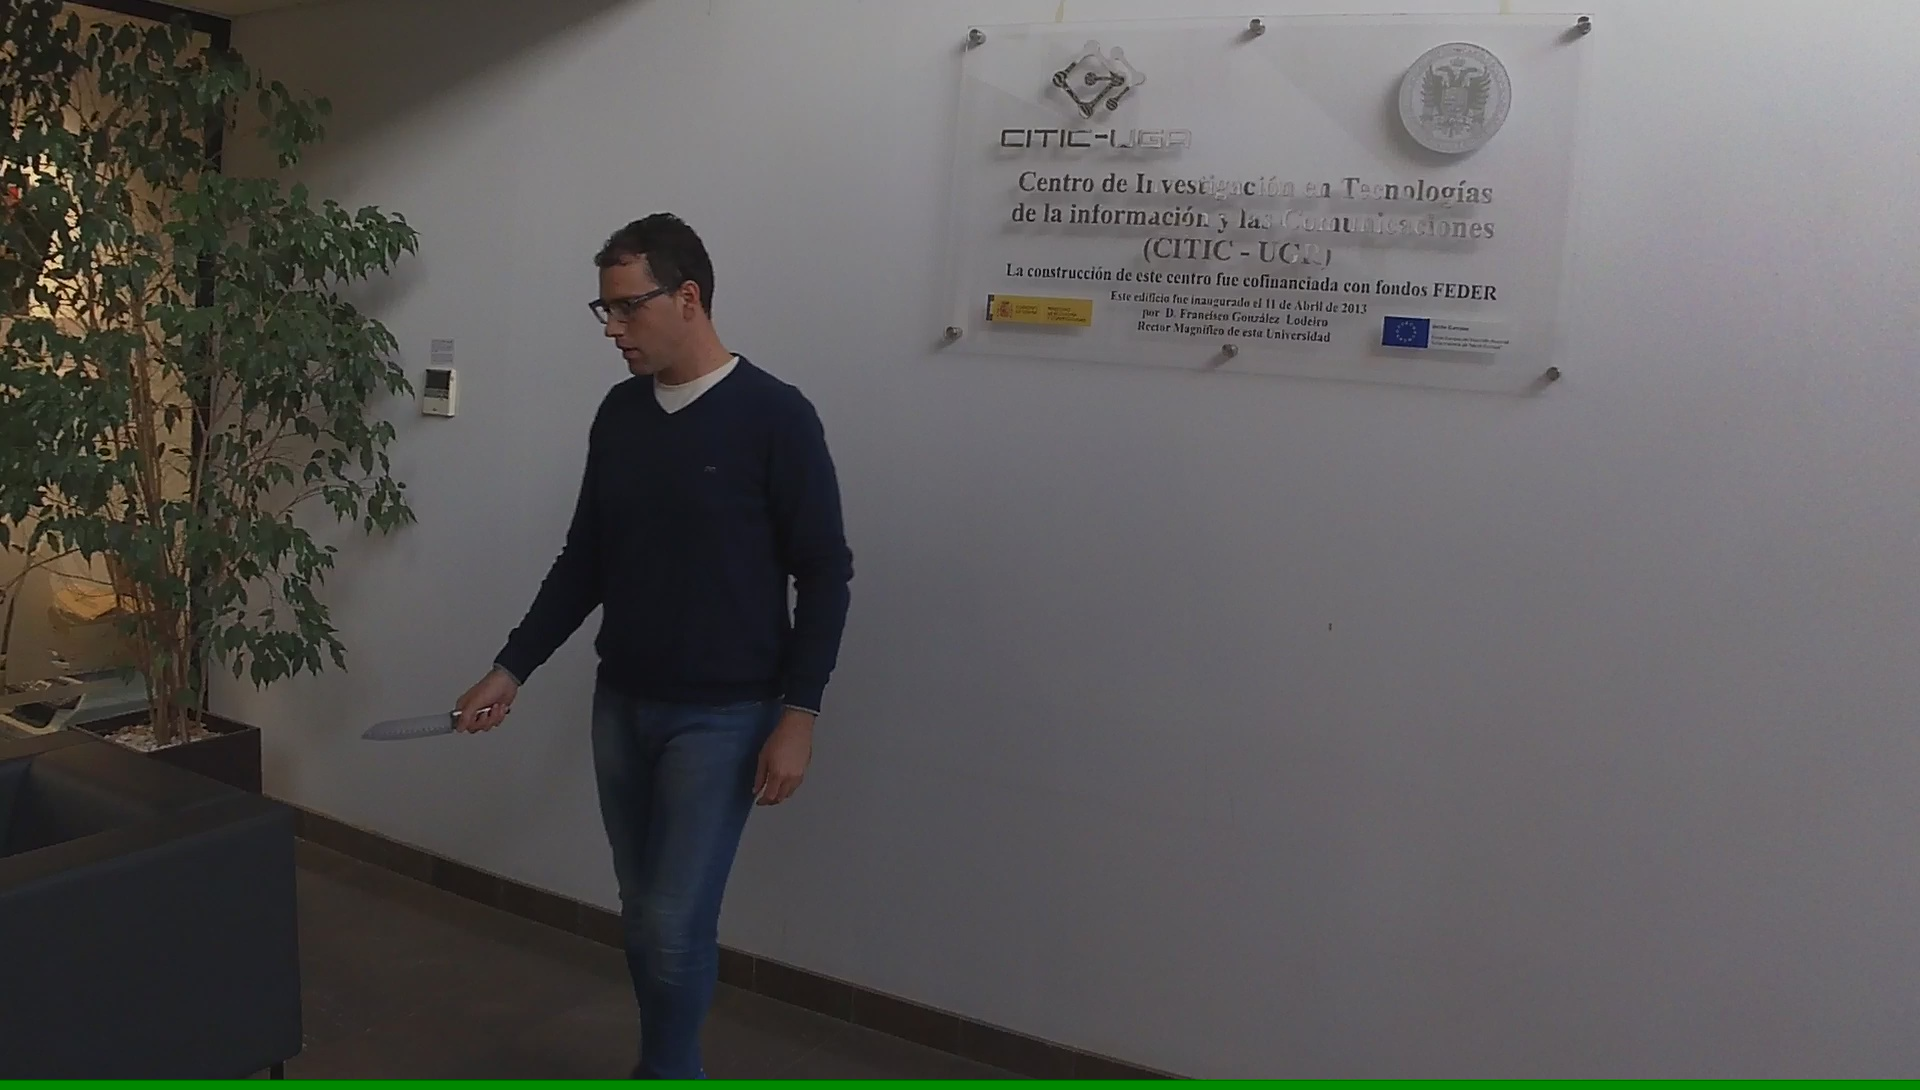knife: (353, 700, 516, 749)
